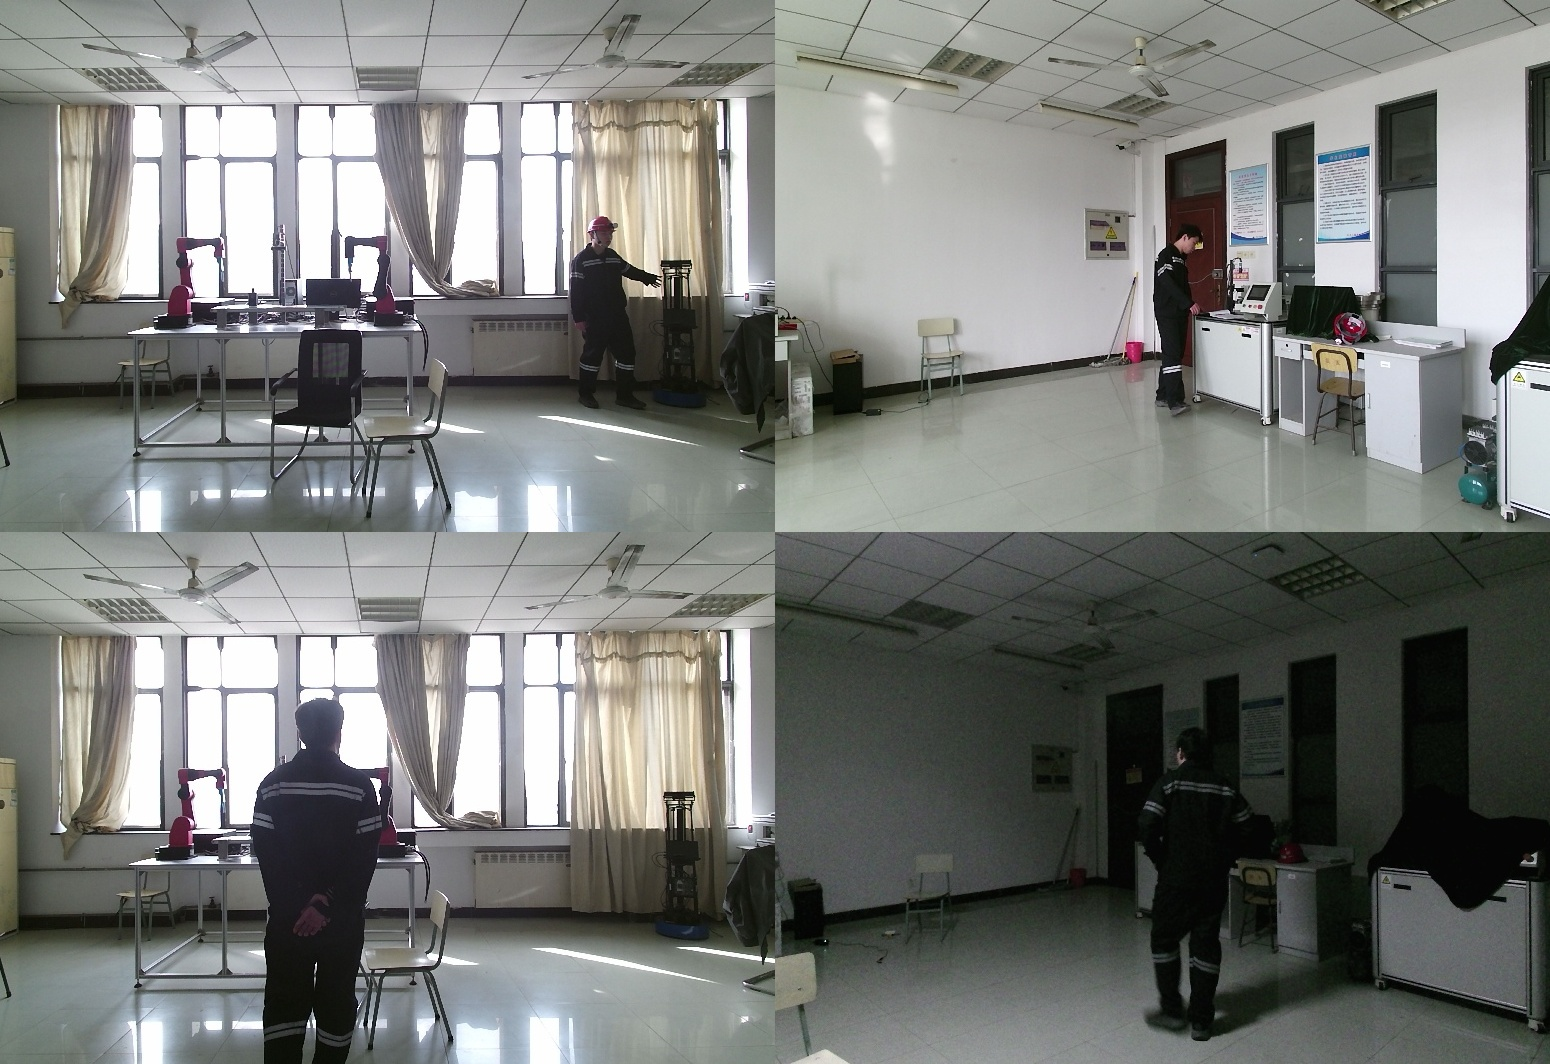person: (249, 699, 398, 1064), (1141, 725, 1278, 1064), (568, 215, 662, 415), (1147, 230, 1211, 420)
